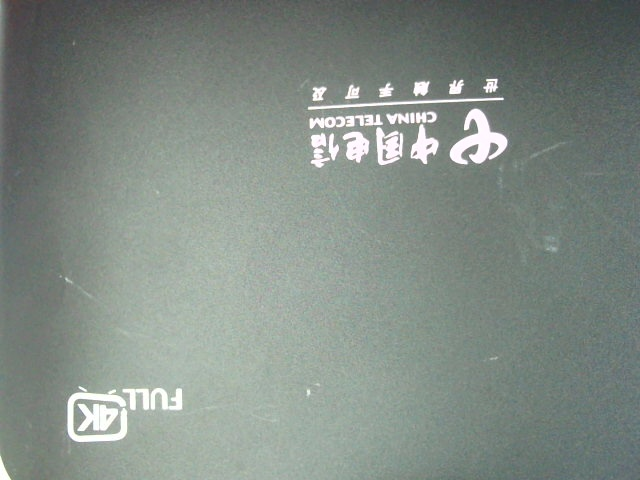AB_ChinaTelecom: (299, 71, 516, 170)
